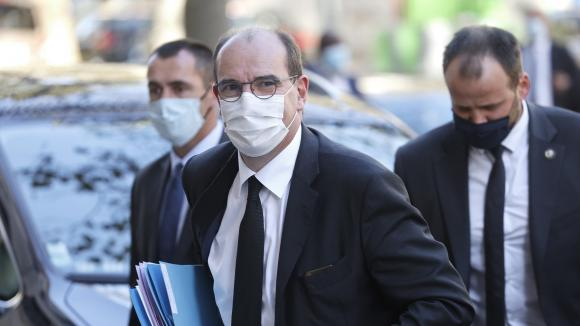with_mask: (215, 48, 296, 158), (439, 53, 518, 145), (146, 50, 213, 147)
